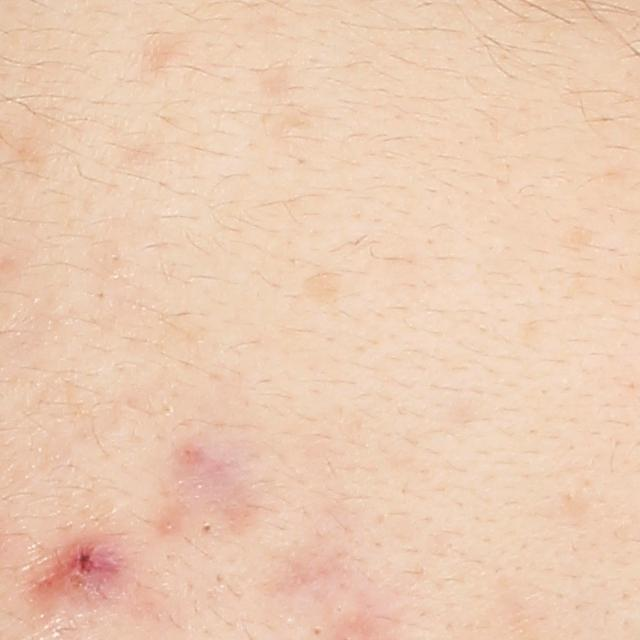comedo: (198, 519, 215, 537)
papule: (26, 539, 124, 608)
